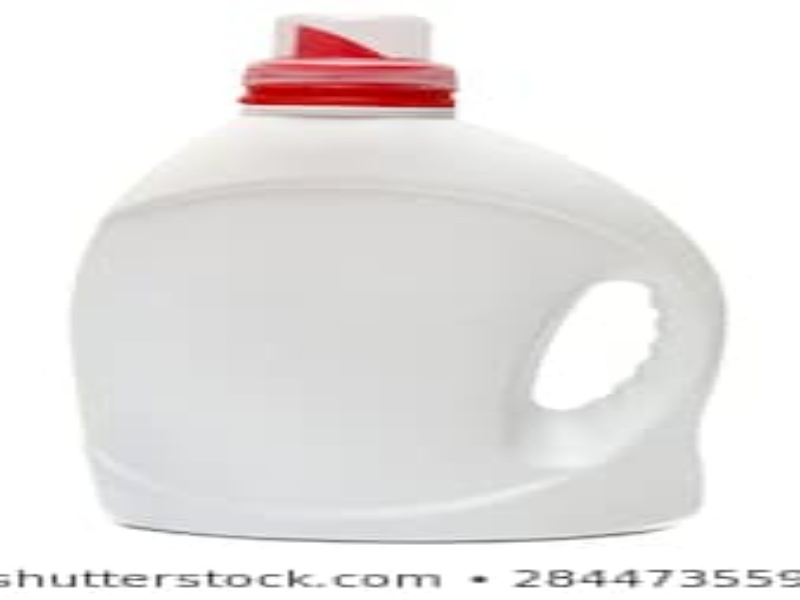detergent-bottle: (64, 10, 715, 540)
